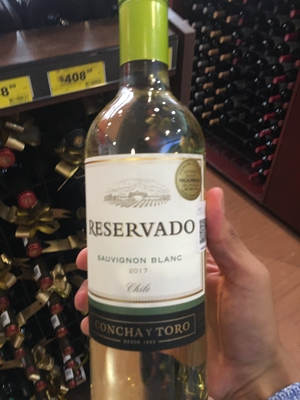reservado sauvignon blanc: (75, 8, 207, 400)
